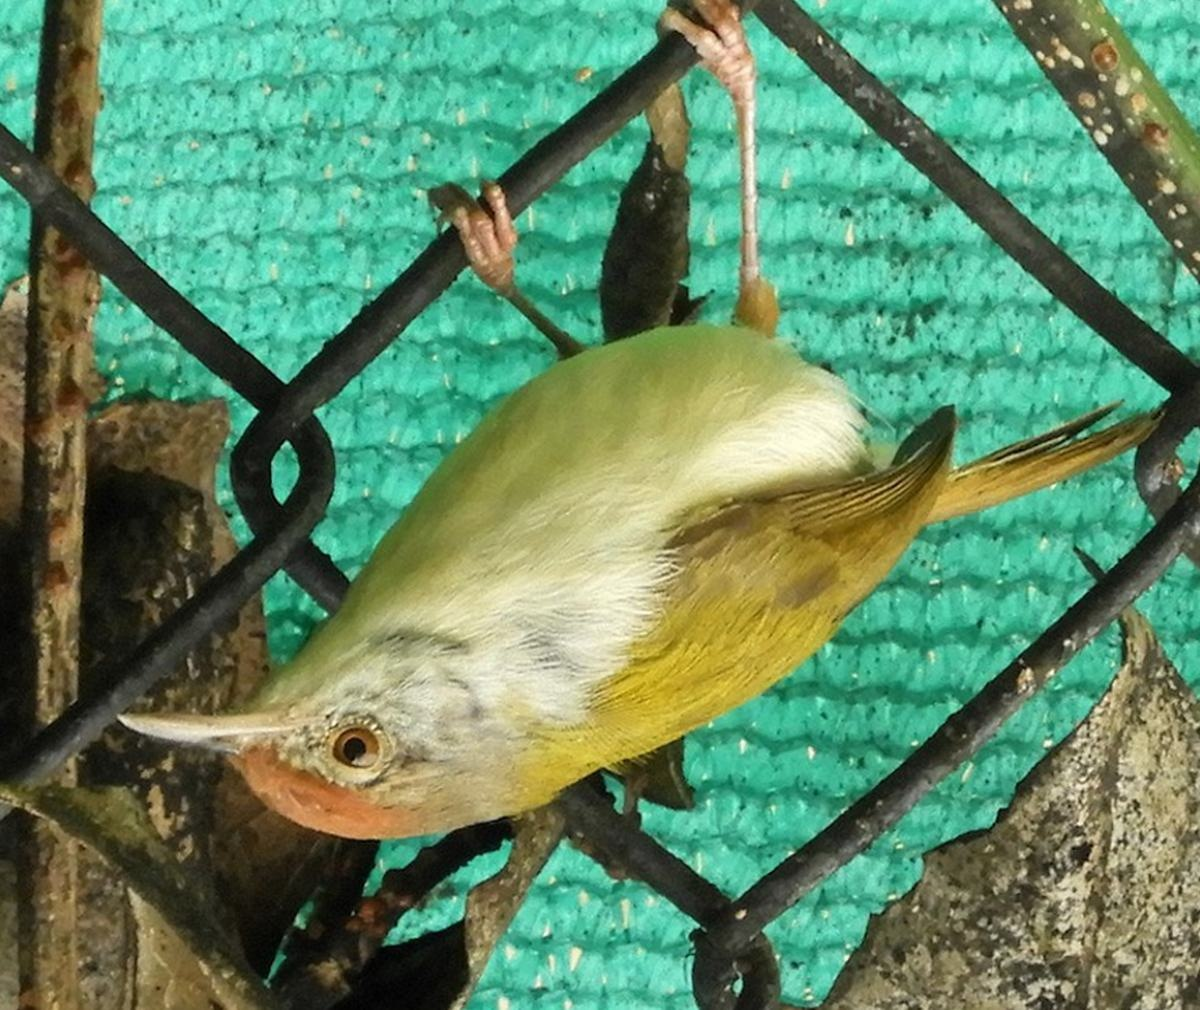tailorbird: (118, 155, 1162, 878)
